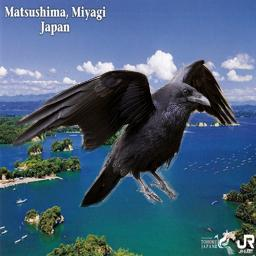Crow: (10, 58, 239, 207)
